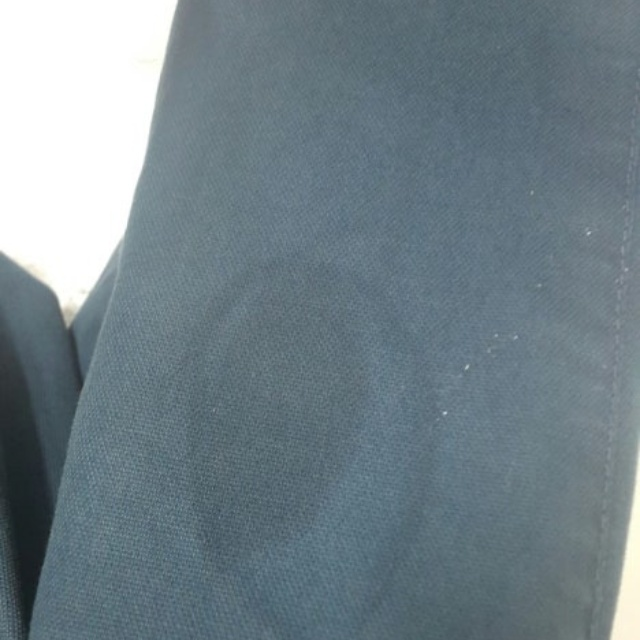oil: (142, 193, 394, 630)
